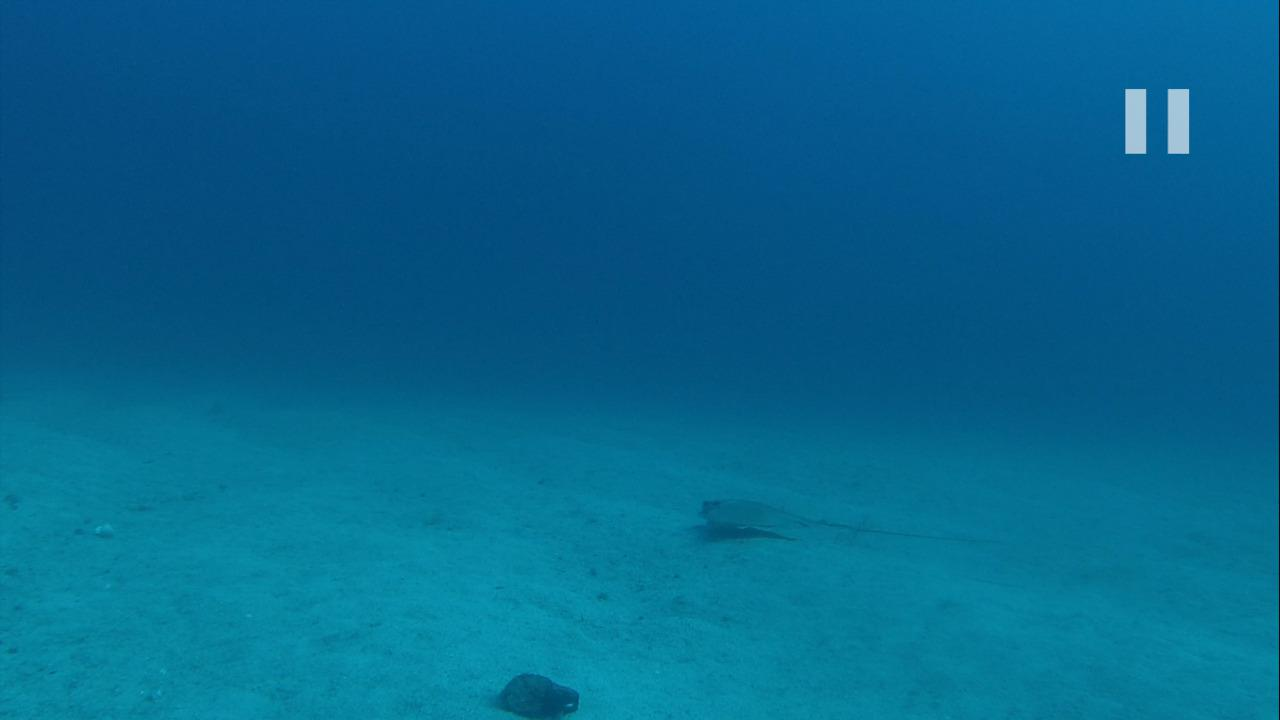myliobatis: (684, 490, 962, 558)
